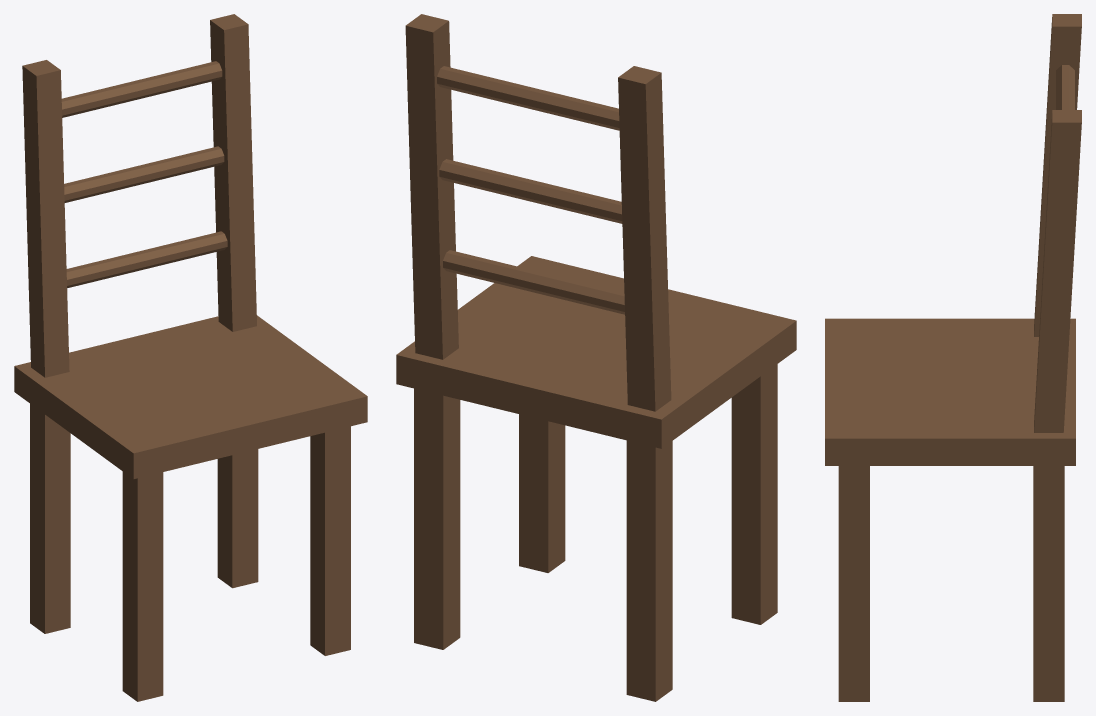
File: chair_8.glb
3 renders of one model, left to right at view 1: azimuth 30°, elevation 25°; view 2: azimuth 150°, elevation 25°; view 3: azimuth 270°, elevation 25°, orthographic. The views are drawn at different scales.
Visible parts, largest first — view 1: Chair; view 2: Chair; view 3: Chair.
Boxes of the visible parts, bbox=[...] form: Chair: bbox=[14, 14, 367, 701]; Chair: bbox=[396, 14, 796, 701]; Chair: bbox=[825, 14, 1081, 701].
Size of the model in its own units: 0.5773 by 1.3 by 0.5221.
Materials: 1 (1 with a texture image).
